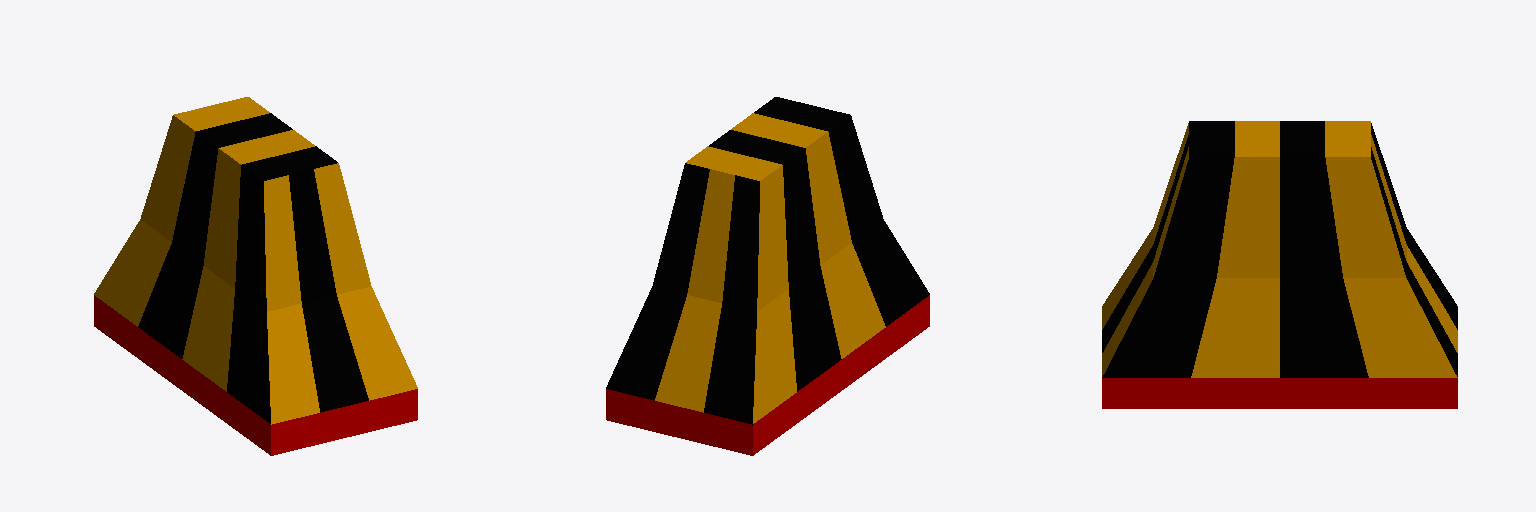
Rendered from barricade_1.obj.
The picture shows the model from 3 angles: view 1: azimuth 30°, elevation 25°; view 2: azimuth 150°, elevation 25°; view 3: azimuth 270°, elevation 25°; orthographic projection.
Visible parts, largest first — view 1: Cube; view 2: Cube; view 3: Cube.
Boxes of the visible parts, <box> form: Cube: <box>94,97,417,455</box>; Cube: <box>606,97,929,455</box>; Cube: <box>1102,121,1457,408</box>.
Size of the model in its own units: 0.7468 by 1.14 by 1.56.